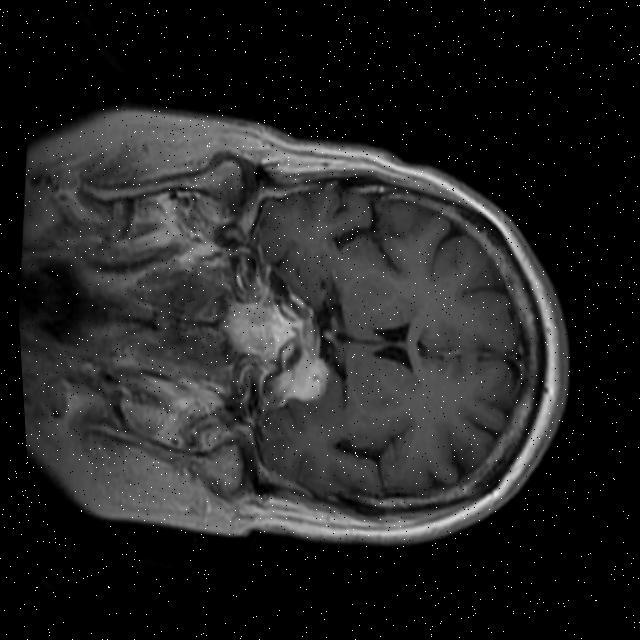Meningioma: (280, 346, 334, 407)
Pituitary: (218, 293, 300, 363)
